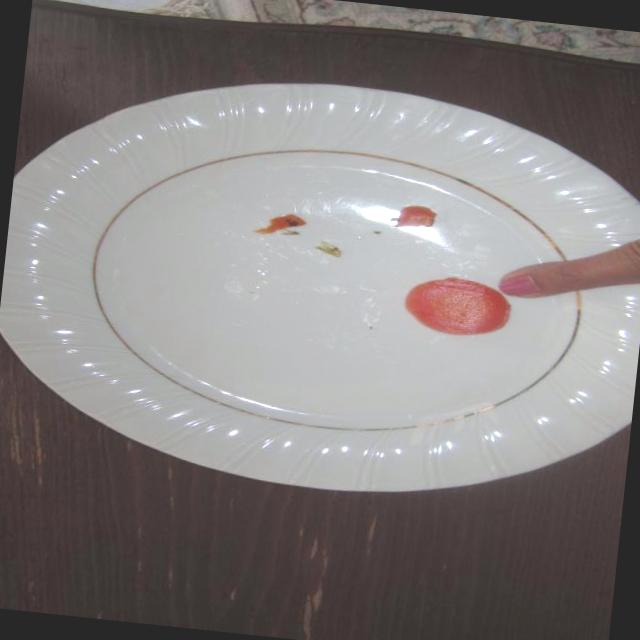Carrot: (400, 271, 520, 343)
Finger: (495, 250, 625, 314)
